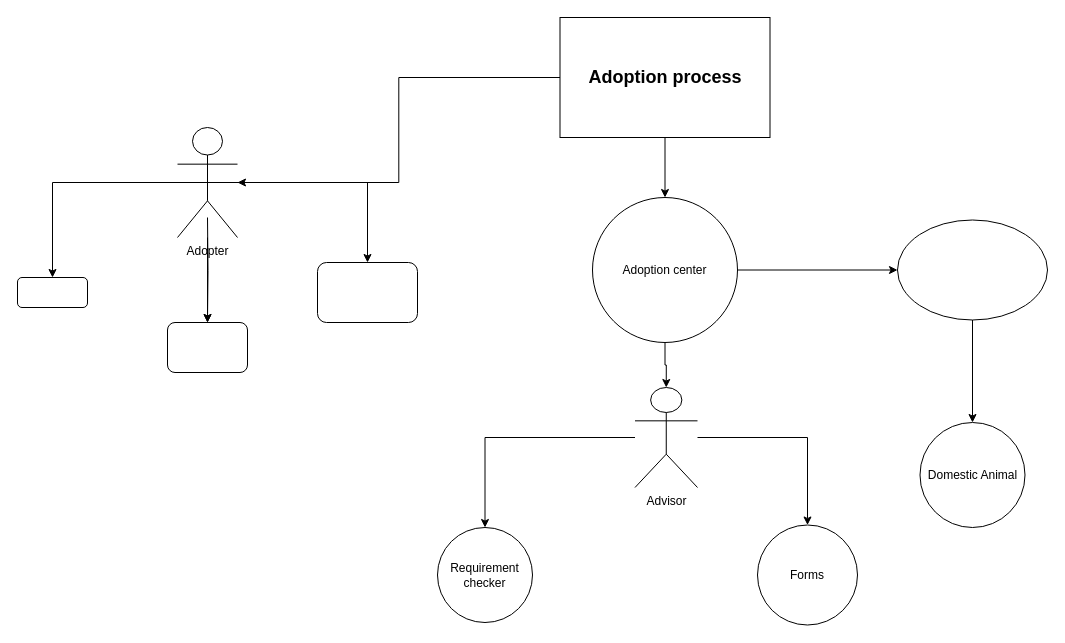
The diagram is 1065 pixels wide and 643 high, and some of its shapes have lost their labels. The shapes that lost their labels are listed below. From the top down, each one's centre as x and y in pixels, then its label:
point (972, 269): Domestic animal catalog
point (52, 292): Must be adult
point (367, 292): 45-60 minutes available to the adoption process
point (207, 347): Enough time, space and resources
